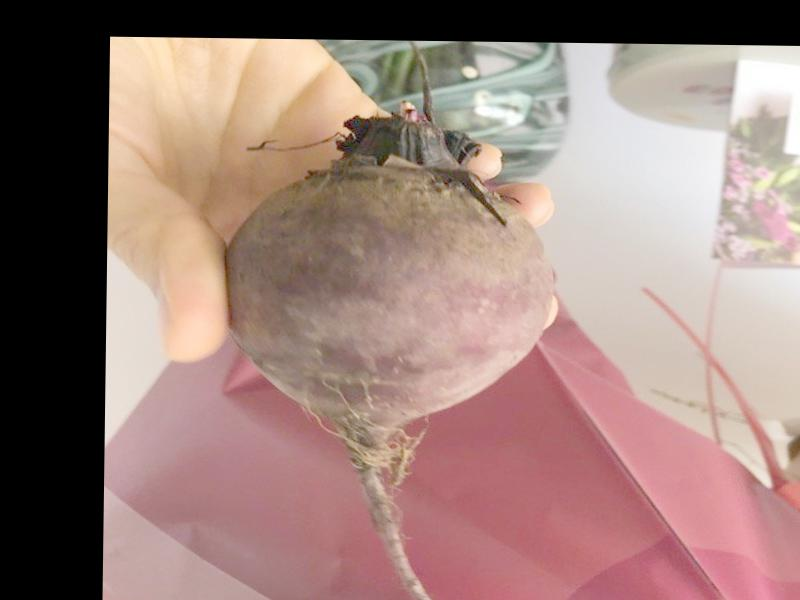Beet: (220, 42, 557, 600)
